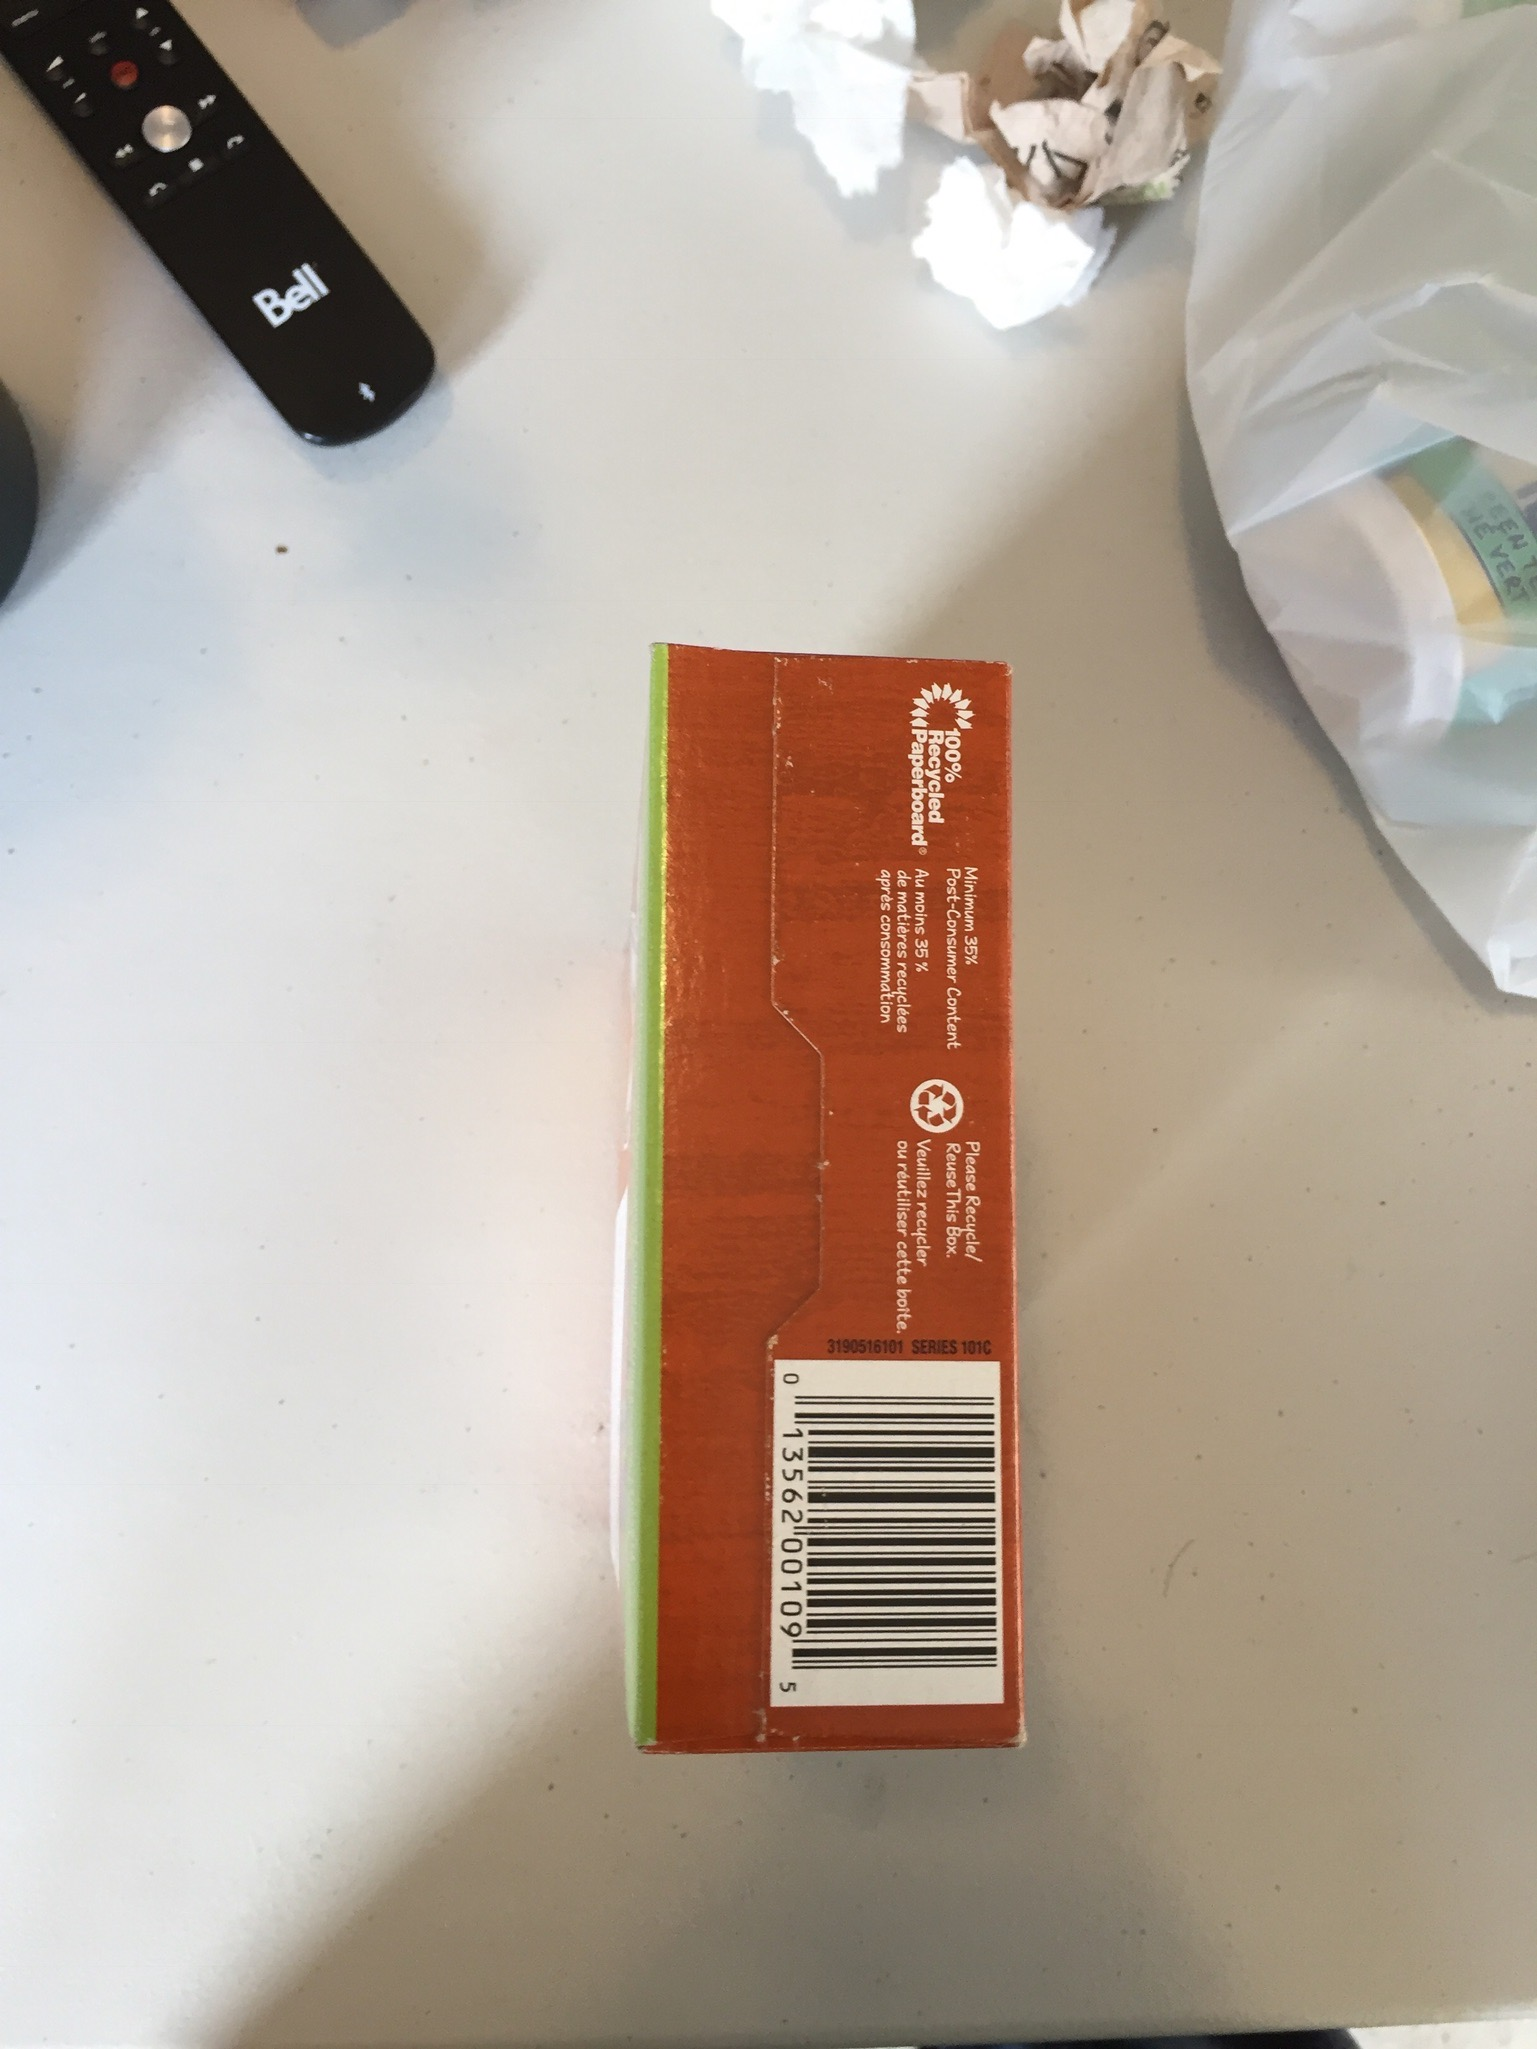annies_snickerdoodle_cinnamon_sugar: (664, 652, 1016, 1752)
